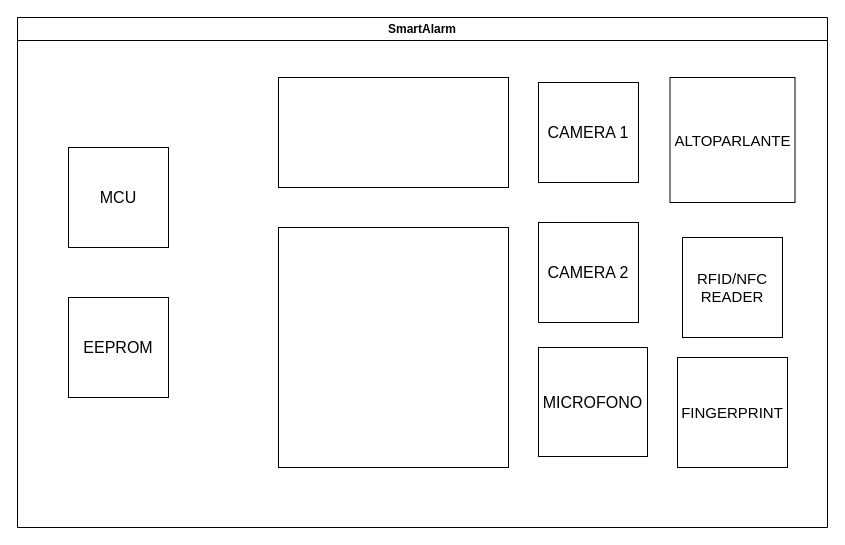
This 845x545 diagram has some shape labels left out. The centre of each missing label's shape, as x and y in pixels:
"DISPLAY TFT" goes at pixel 393 132.
"KEYPAD" goes at pixel 393 347.
